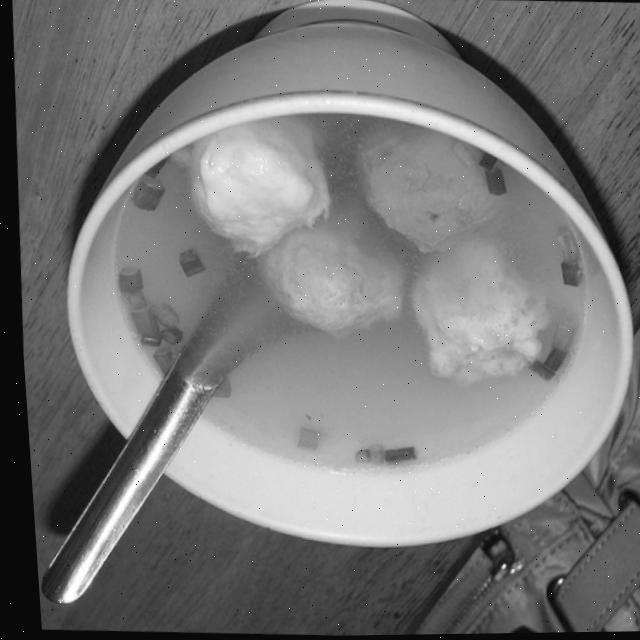熟制海鲜: (50, 30, 622, 539)
